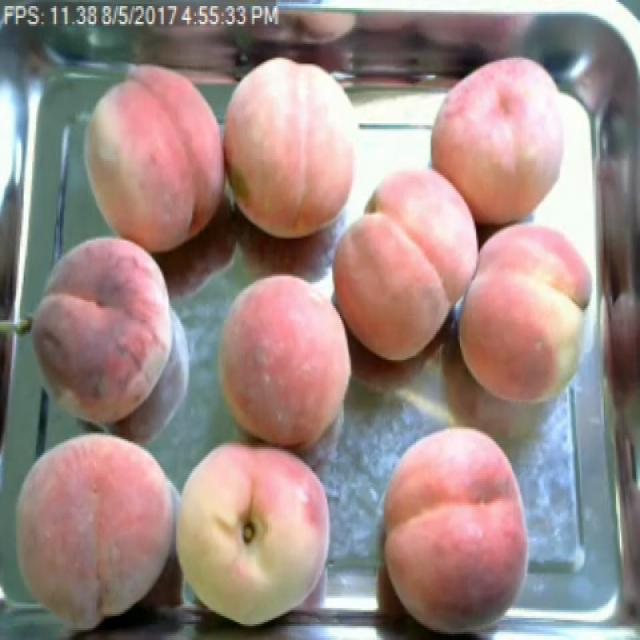Fruit: (2, 415, 185, 640), (416, 38, 619, 240), (368, 419, 543, 640), (16, 225, 189, 443), (321, 157, 492, 376), (172, 427, 345, 640), (438, 207, 610, 419), (218, 44, 374, 248), (204, 268, 367, 463), (75, 62, 229, 260)
